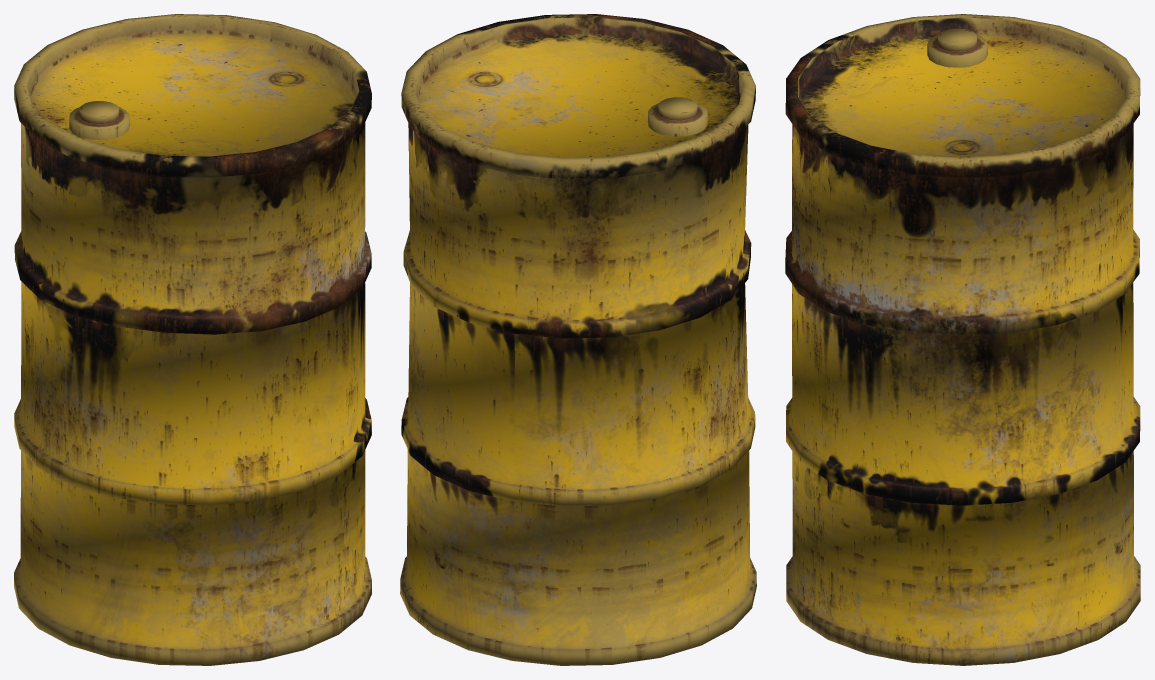
The model's file is SM_barrel_YELLOW.fbx.
3 views of the same model, side by side, from view 1: azimuth 30°, elevation 25°; view 2: azimuth 150°, elevation 25°; view 3: azimuth 270°, elevation 25° (orthographic).
Parts seen in each view (by area): view 1: SM_barrel_YELLOW; view 2: SM_barrel_YELLOW; view 3: SM_barrel_YELLOW.
Part boxes in pixels (bbox=[...]): SM_barrel_YELLOW: bbox=[14, 14, 371, 665]; SM_barrel_YELLOW: bbox=[400, 14, 756, 665]; SM_barrel_YELLOW: bbox=[785, 14, 1140, 665].
Size of the model in its own units: 0.5835 by 0.92 by 0.58.
